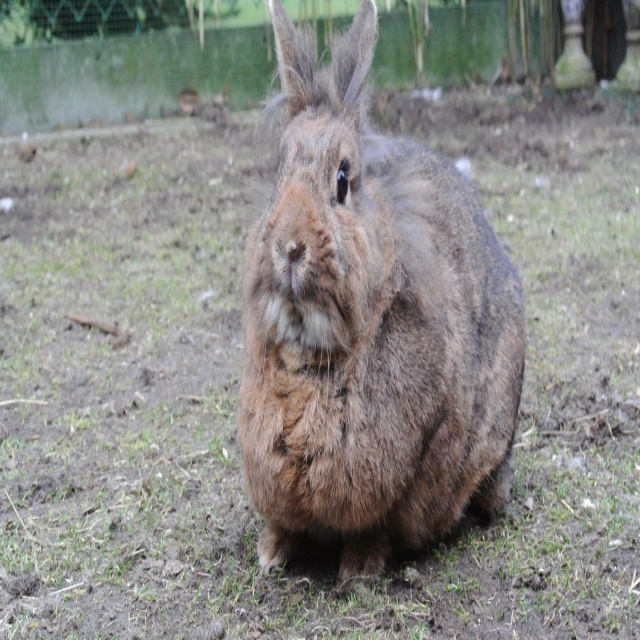Rabbit: (234, 0, 523, 588)
